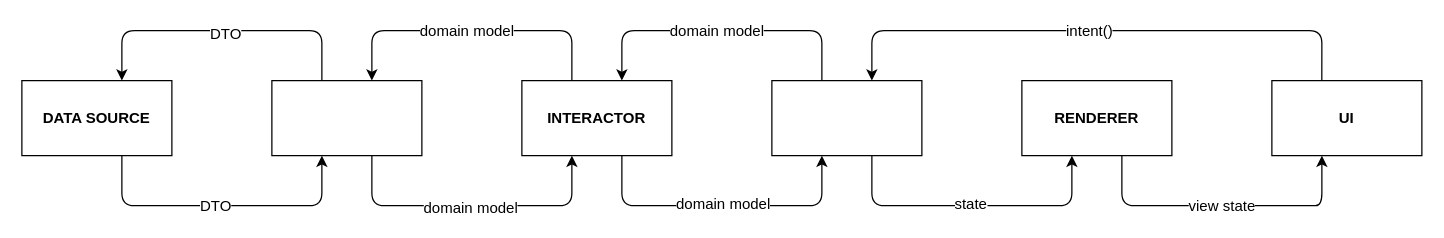
This 1444x238 diagram has some shape labels left out. The shapes that lost their labels are listed below. From the top down, each one's centre as x and y in pixels, then its label:
At point 346,117: "REPOSITORY".
At point 846,117: "STORE".
